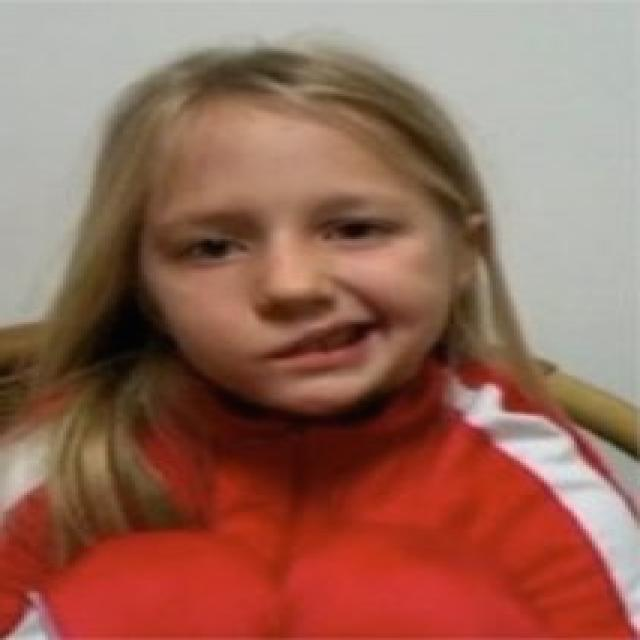stroke_face: (167, 128, 410, 412)
